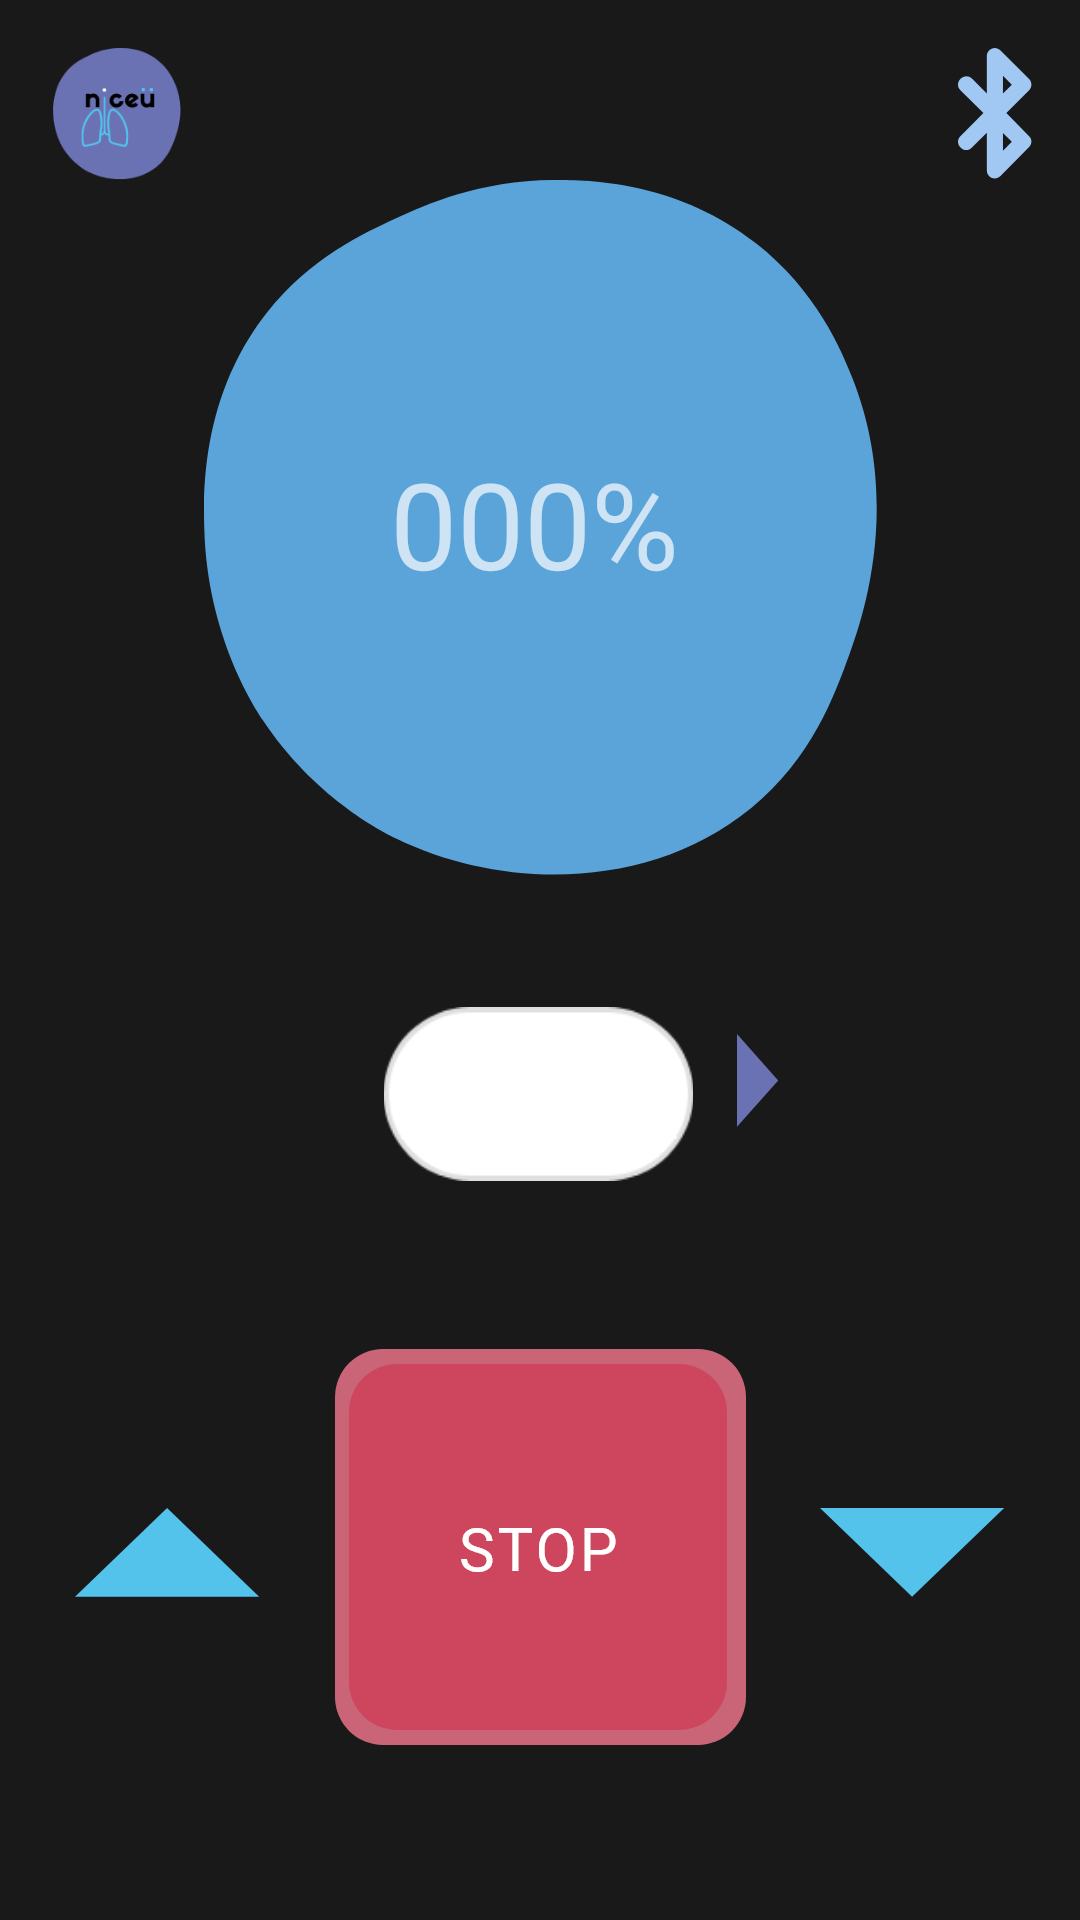

Locate icon controls on the screen. Image size 1080 × 1920, boxes as (x1, y1, x2, y2).
down: (820, 1508, 1004, 1597)
send: (737, 1034, 778, 1127)
